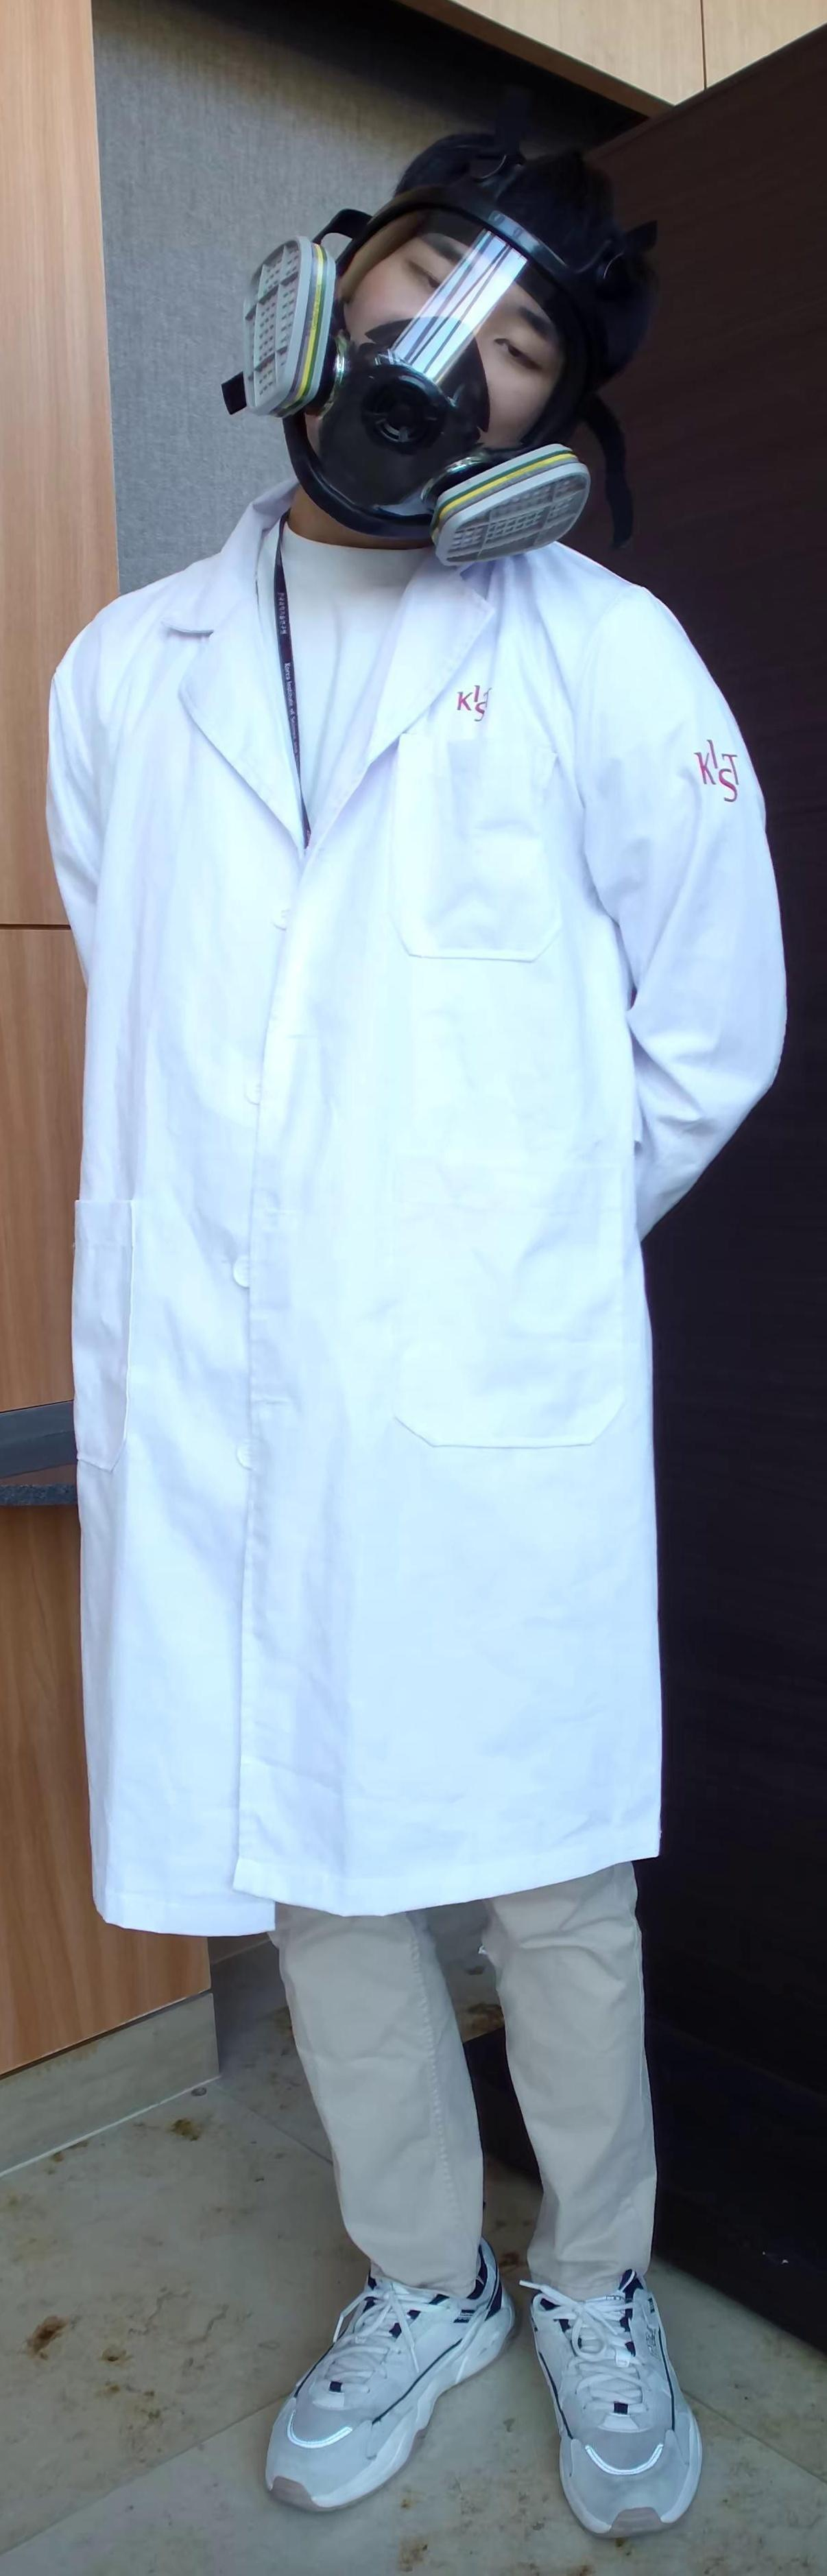lab_coat: (0, 570, 804, 1911)
